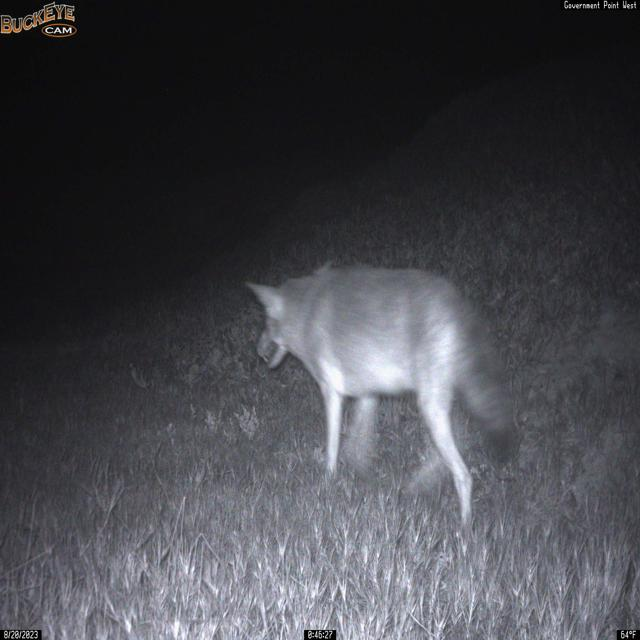coyote: (244, 258, 520, 535)
